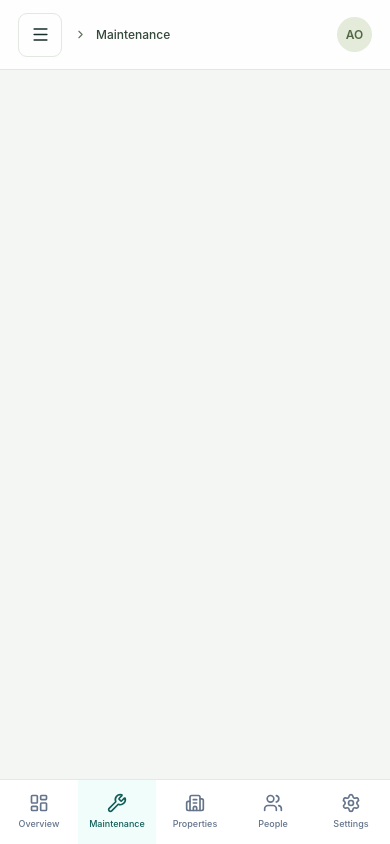
Test: mobile workspace menu opens and closes with Escape
This screenshot has width=390, height=844.
Click the button named "Open workspace menu" at (40, 34), box [18,12,62,56]
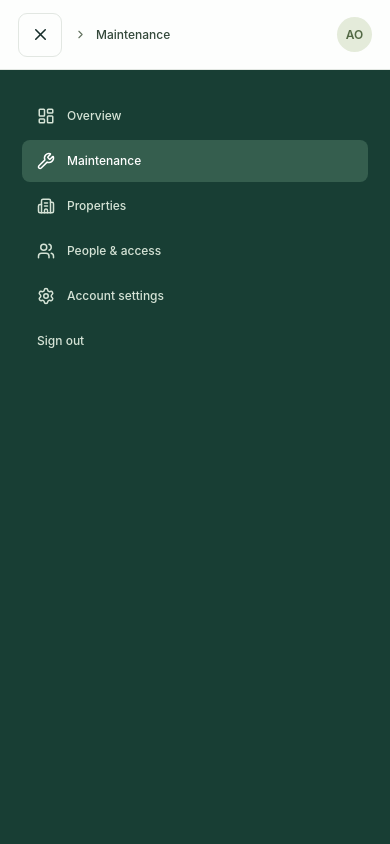
Expected: the button named "Close workspace menu" is expanded, [18,12,62,56]
Expected: the element with id "workspace-mobile-menu" is shown
Press Escape
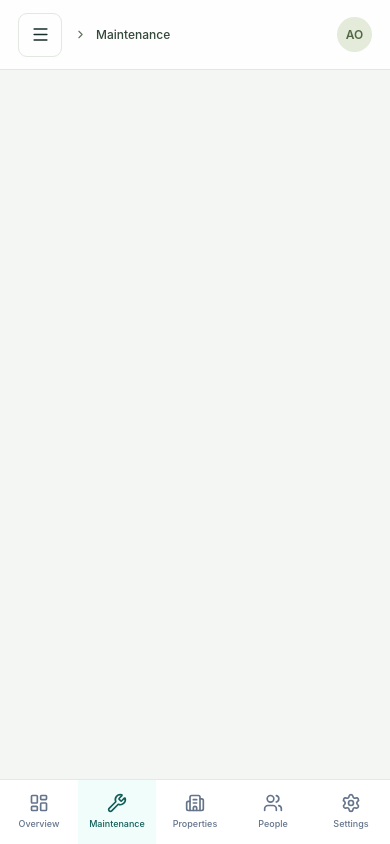
Expected: the element with id "workspace-mobile-menu" is gone
